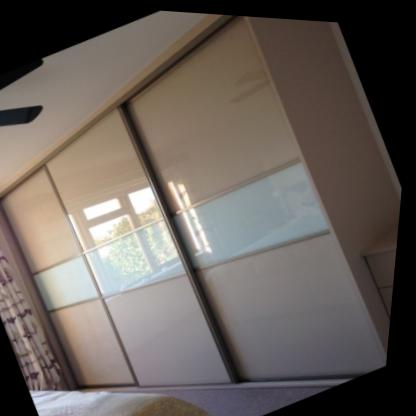Closet: (0, 8, 405, 390)
Curtains: (0, 234, 71, 391)
